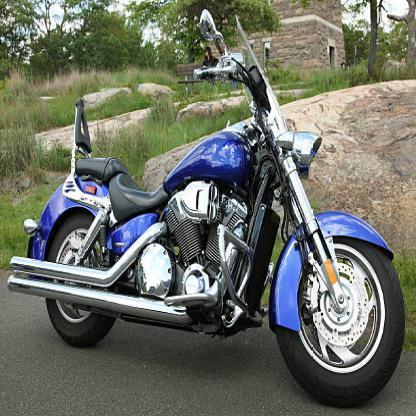Motorcycle: (7, 7, 407, 402)
